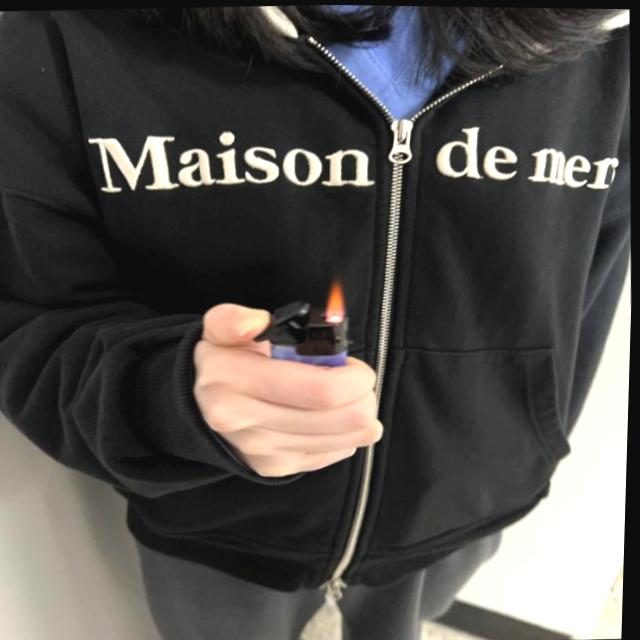Fire: (320, 277, 355, 324)
